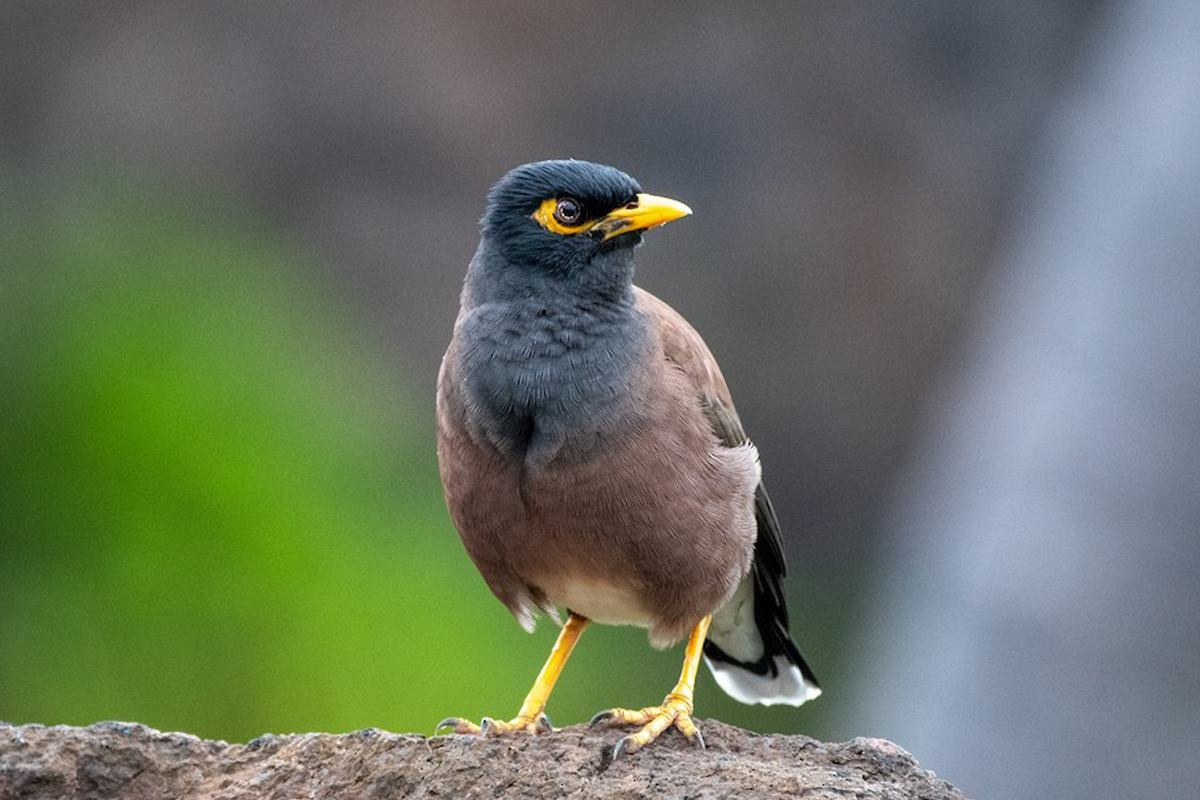myna: (415, 115, 855, 738)
